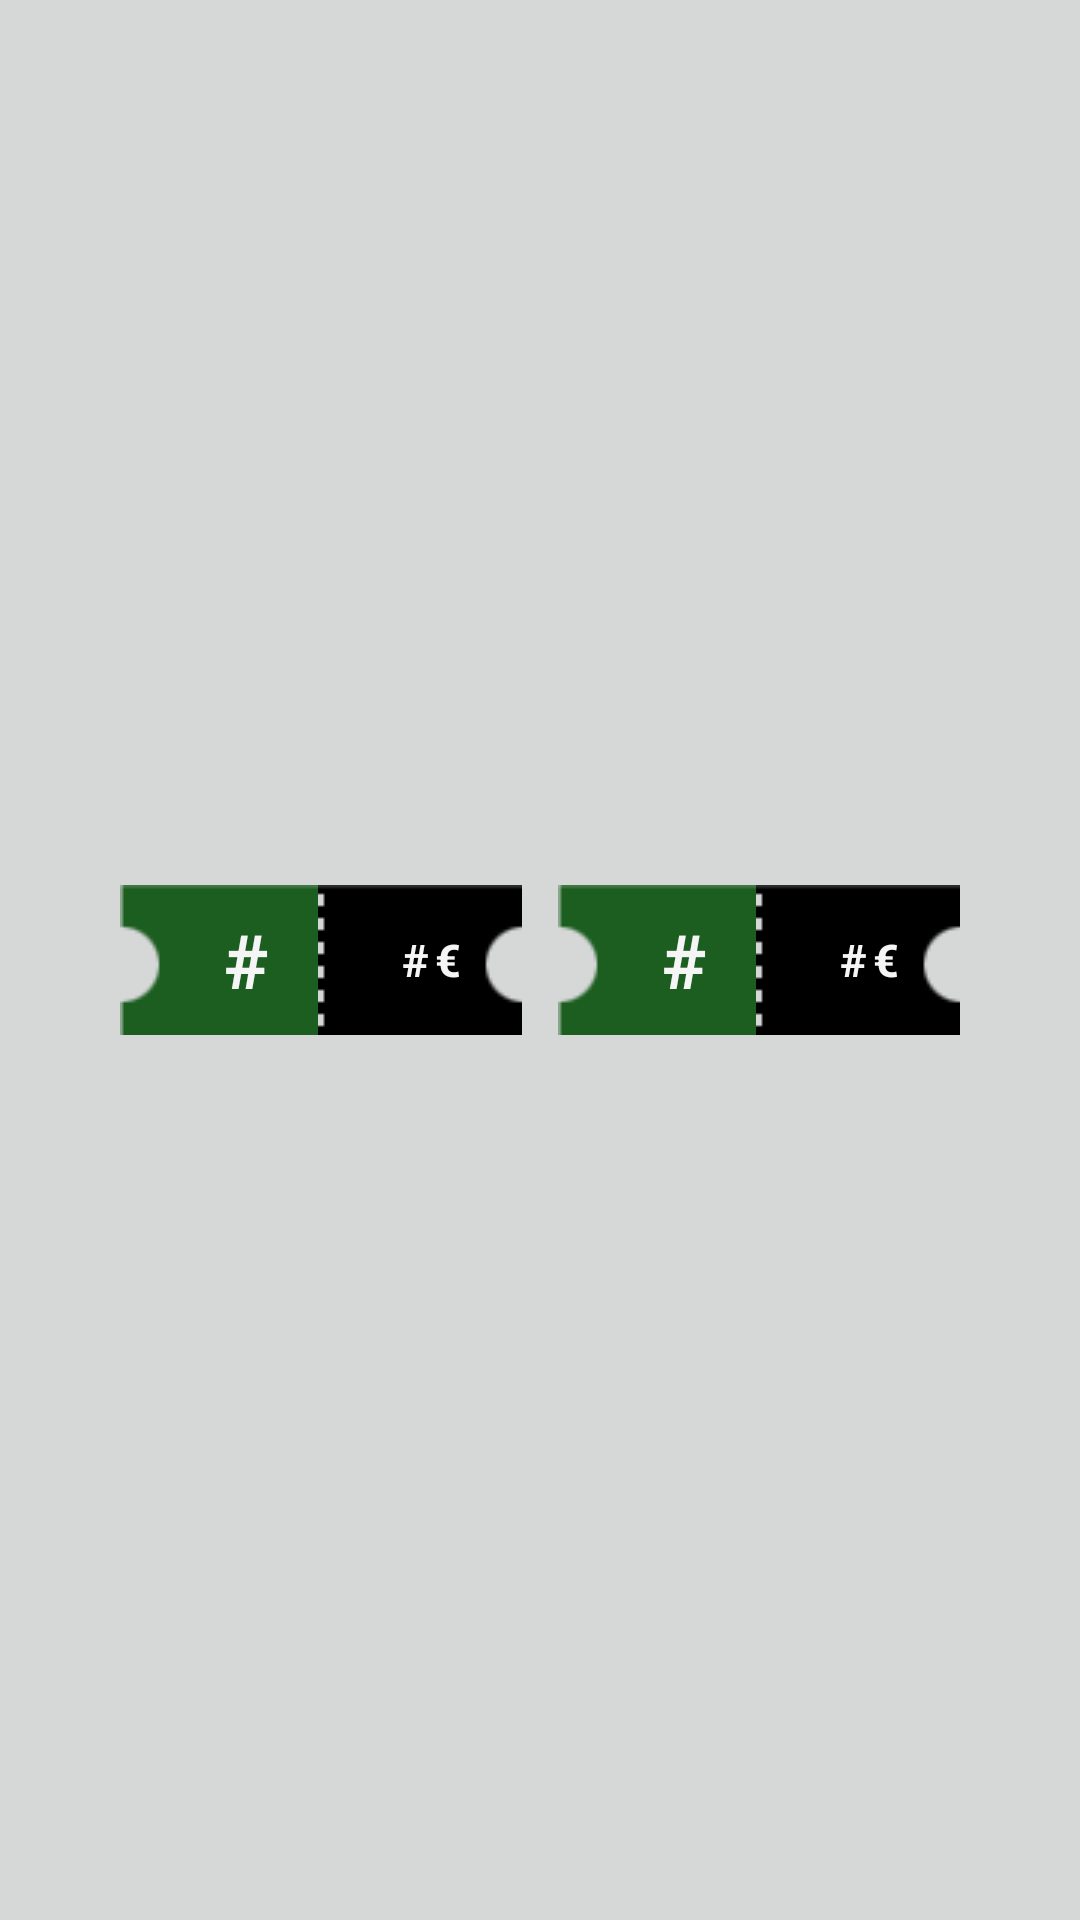

Icon click points for this 1080×1920 phone screenshot, format [x,y]:
ticket: [420,960], [858,960]
ticket 1b: [219,960], [657,960]
